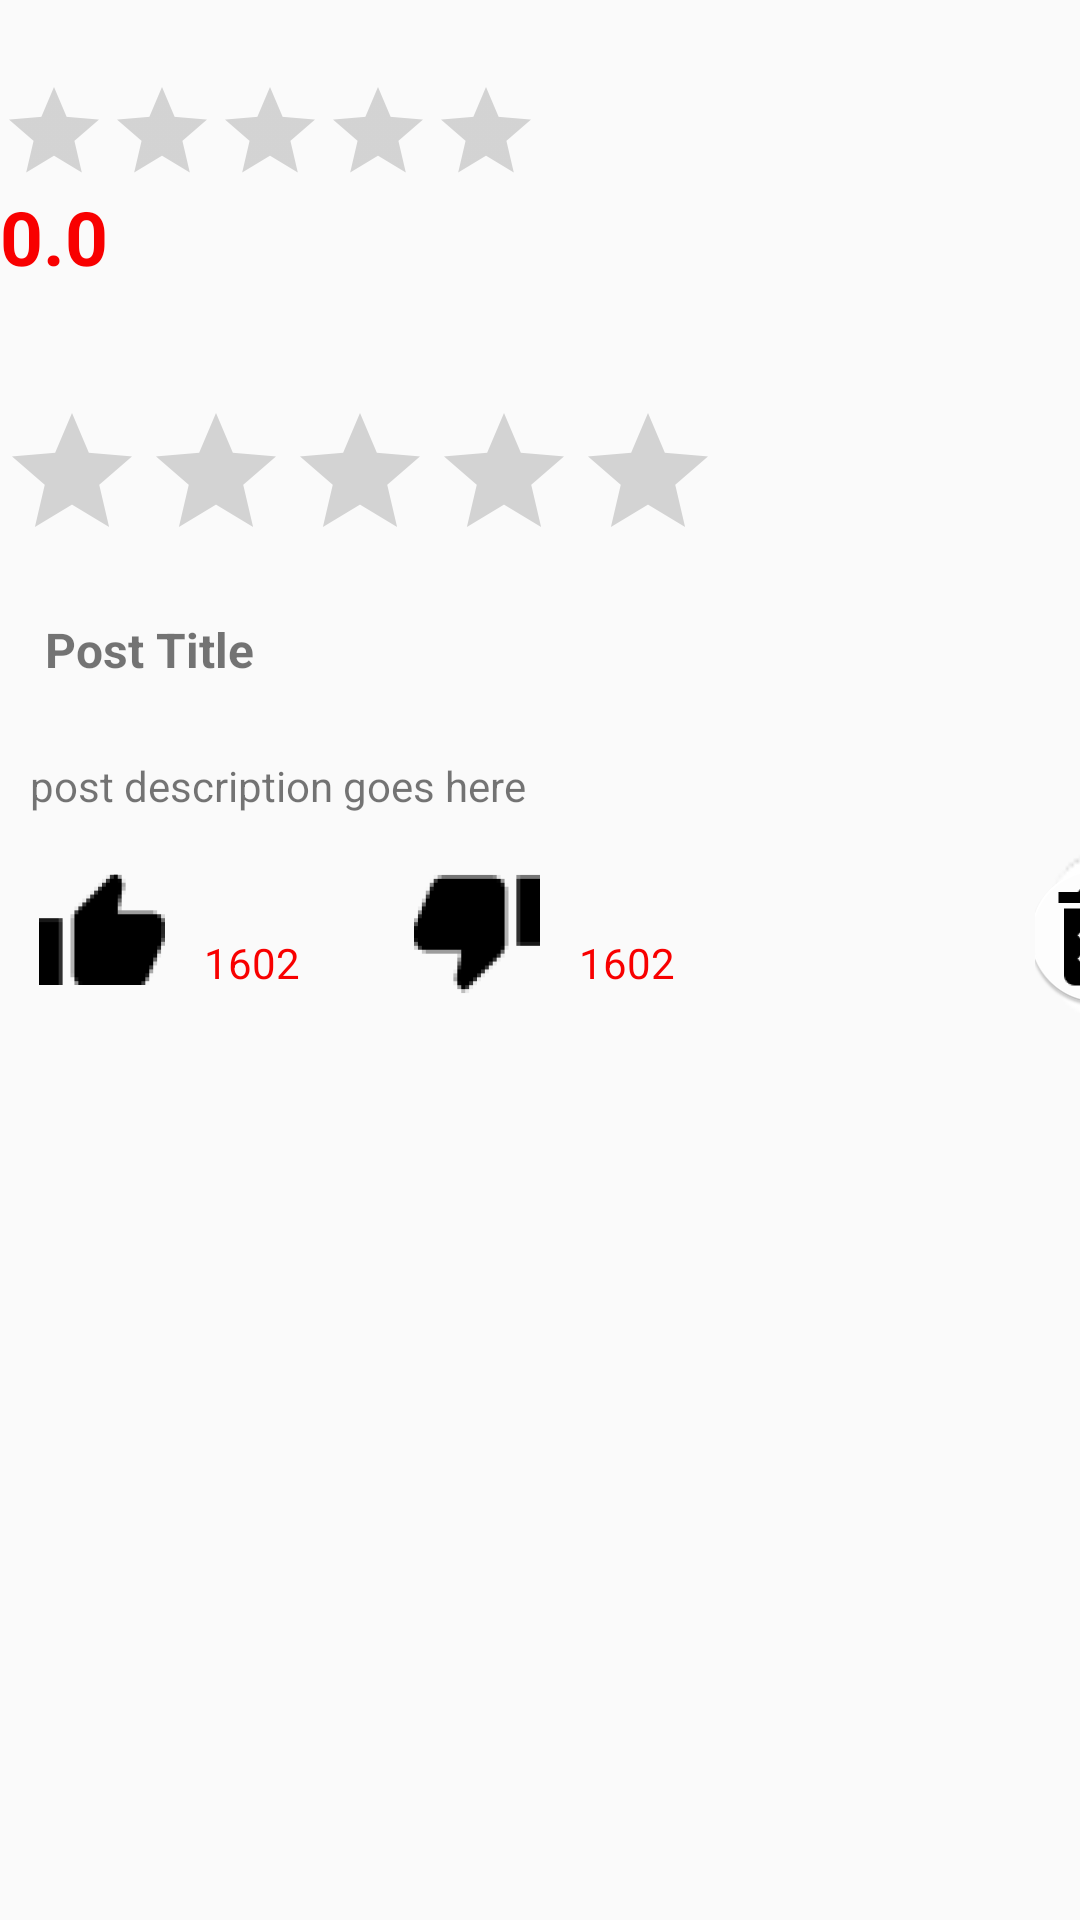

Named icons in this screenshot (1080x1920) and their centers, point (x, y):
thumb down: point (477, 934)
thumb up: point (102, 929)
